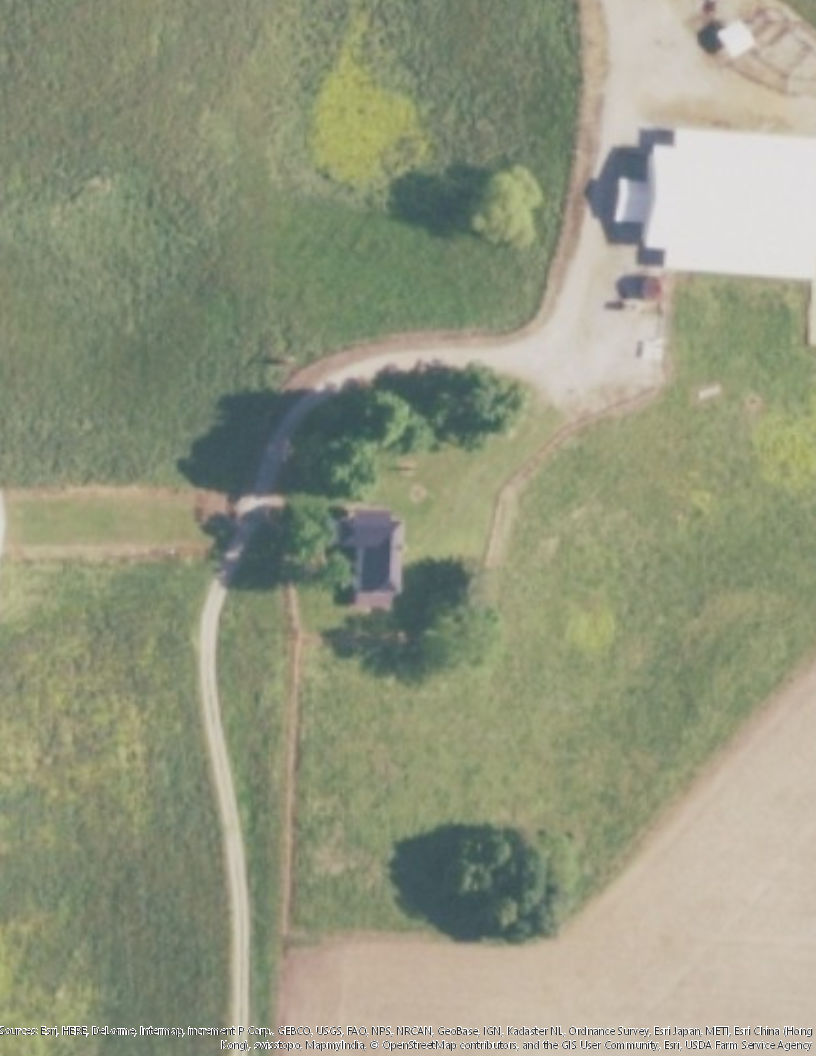cafo: (606, 120, 816, 288)
